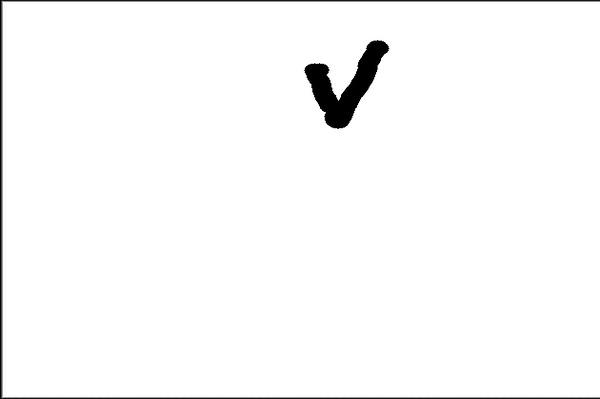V: (297, 30, 390, 141)
